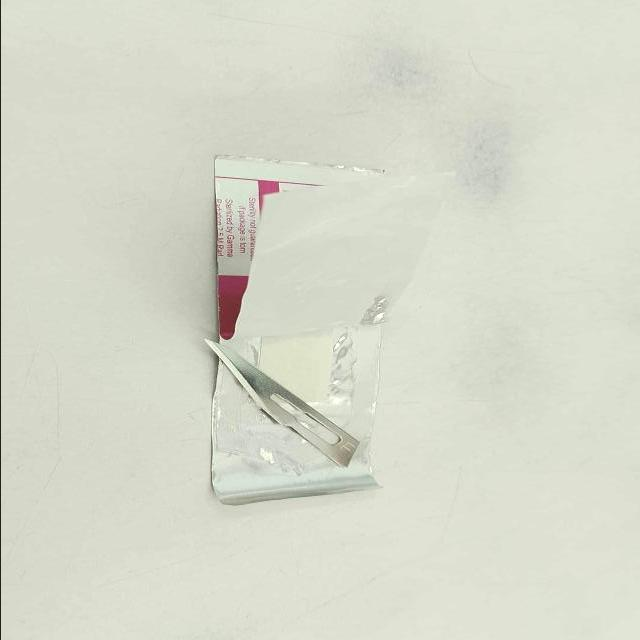Pathological: (204, 153, 457, 508)
Sharps: (202, 339, 361, 470)
